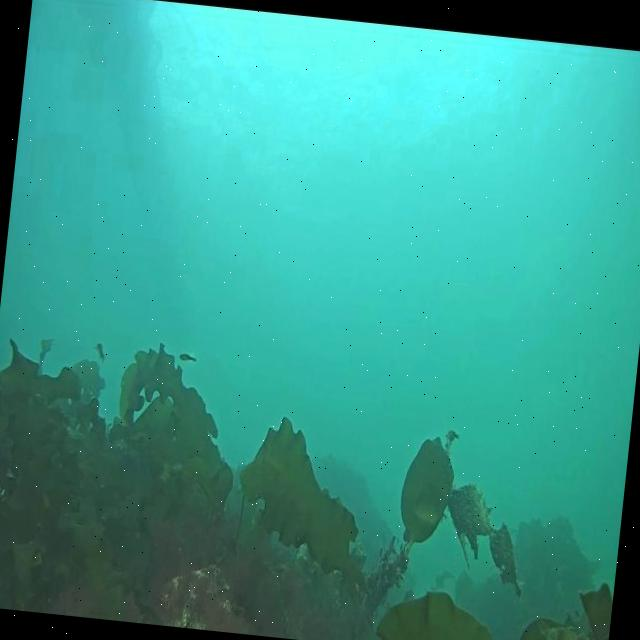fish: (94, 342, 106, 362), (178, 354, 196, 361)
